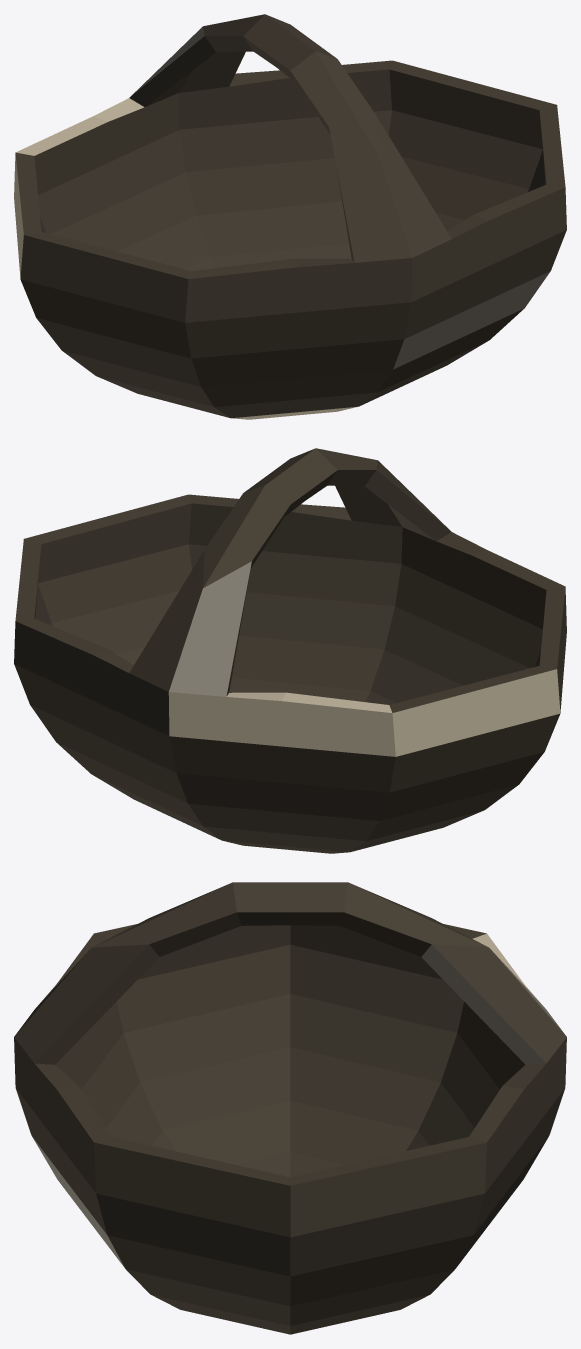
File: basket.fbx
3 views of the same model, one above another, from view 1: azimuth 30°, elevation 25°; view 2: azimuth 150°, elevation 25°; view 3: azimuth 270°, elevation 25° (orthographic). The views are drawn at different scales.
Visible parts, largest first — view 1: Cube; view 2: Cube; view 3: Cube.
Part boxes in pixels (x1,y1,x2,y2): Cube: (14, 14, 566, 419); Cube: (14, 448, 566, 853); Cube: (14, 882, 566, 1334).
Size of the model in its own units: 1.04 by 0.6544 by 0.8085.
